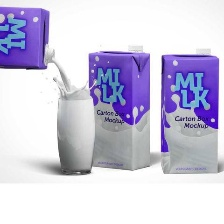carton: (85, 40, 154, 173), (157, 46, 222, 177), (0, 4, 57, 72)
glass: (52, 91, 97, 179)
